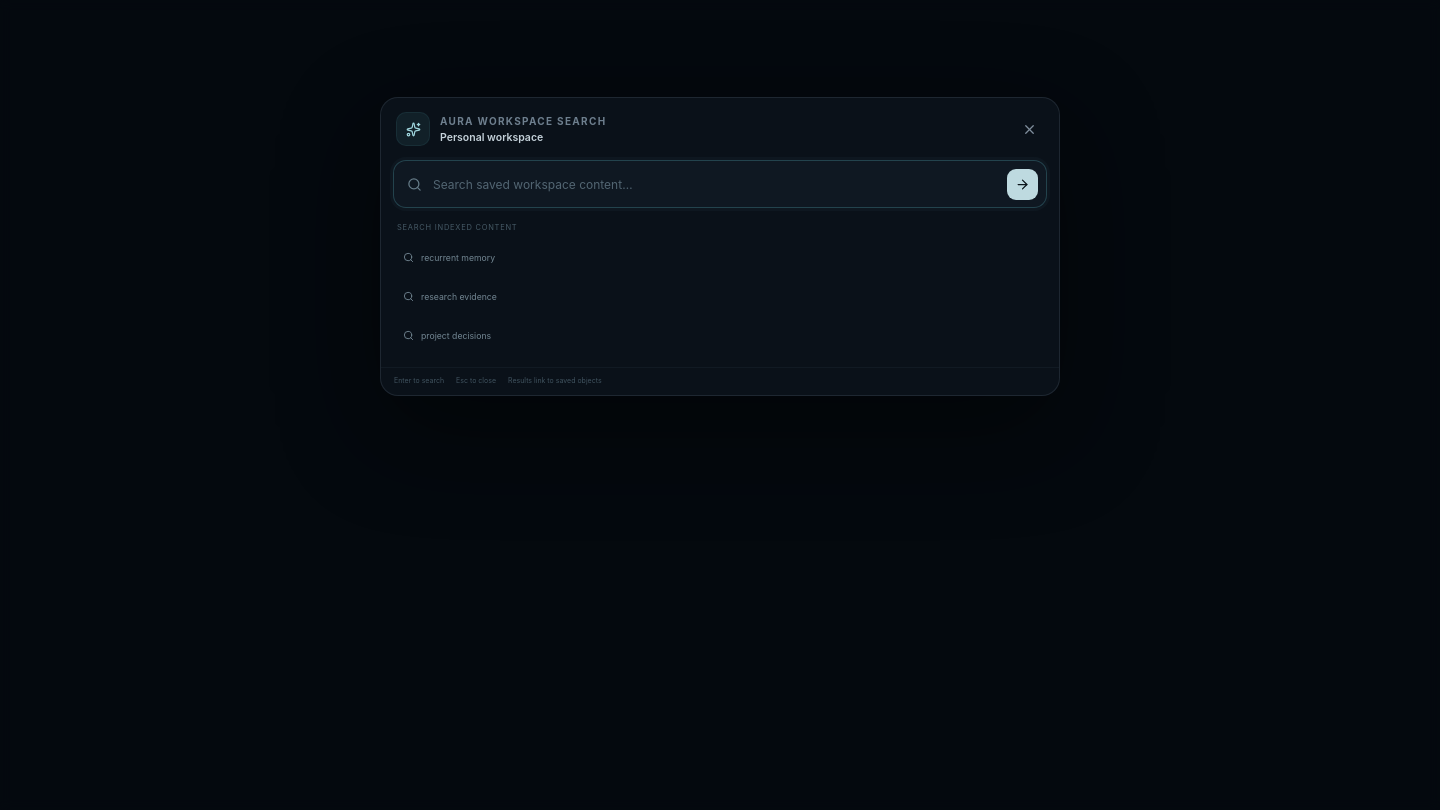
Test case: AuraCommandPalette › clears a stale load-more state when a new search supersedes that page request
Type "old query" into the field labelled "Search saved workspace content" at (714, 184), box [431,176,998,193]
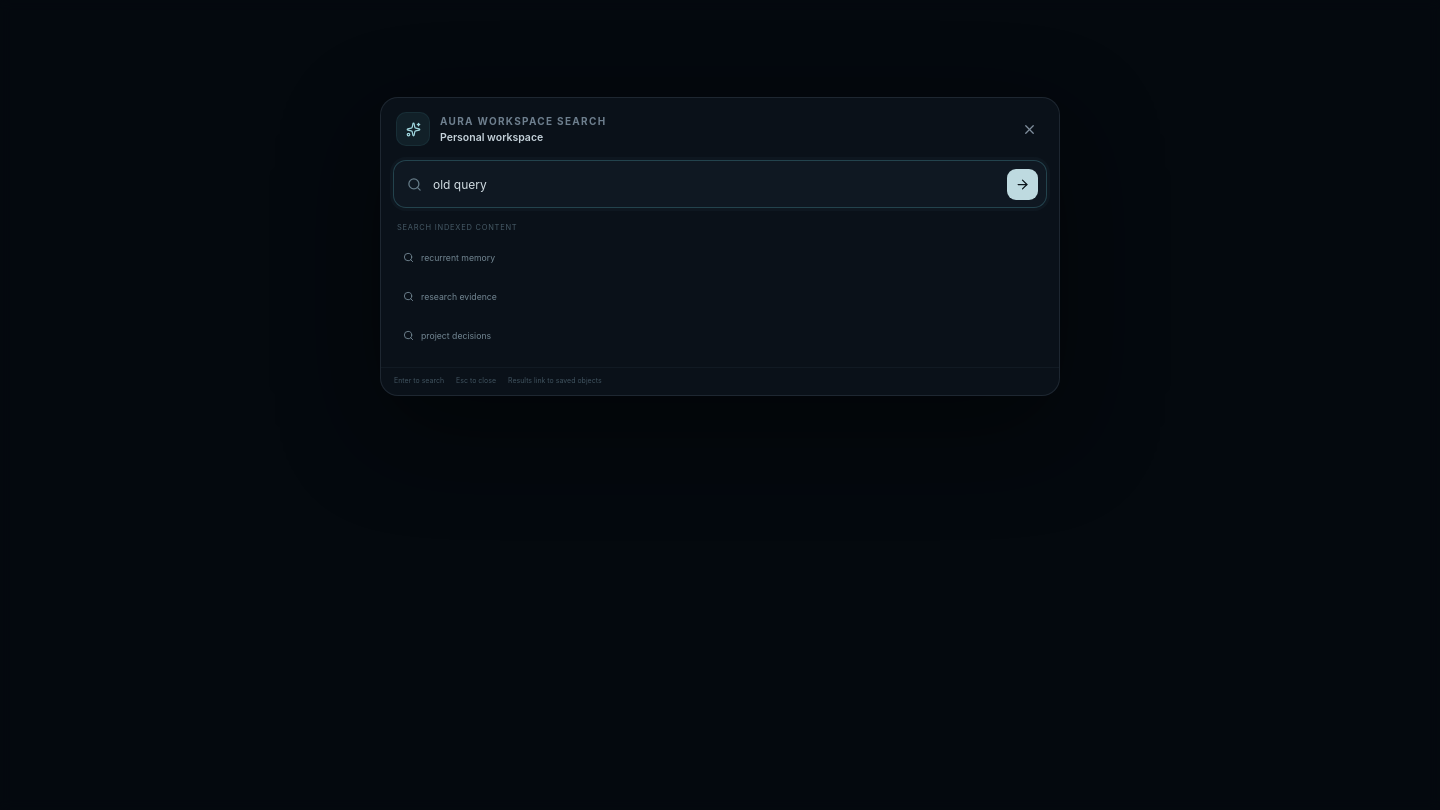
Click the button named "Search" at (1022, 184), box [1007,169,1038,200]
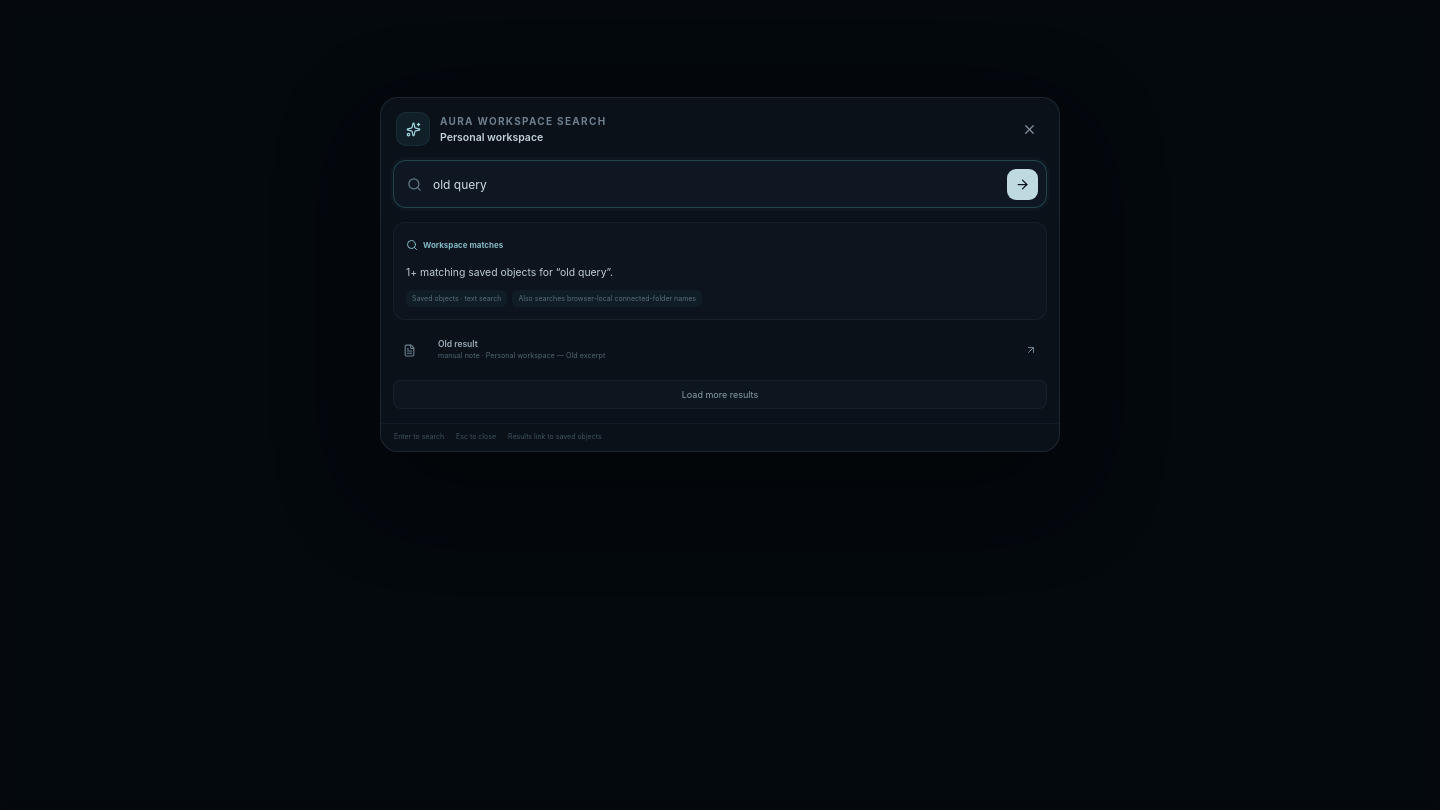
Check: the text "Old result" is shown, box [438,339,478,349]
Click the button "Load more results" at (720, 395), box [393,380,1047,409]
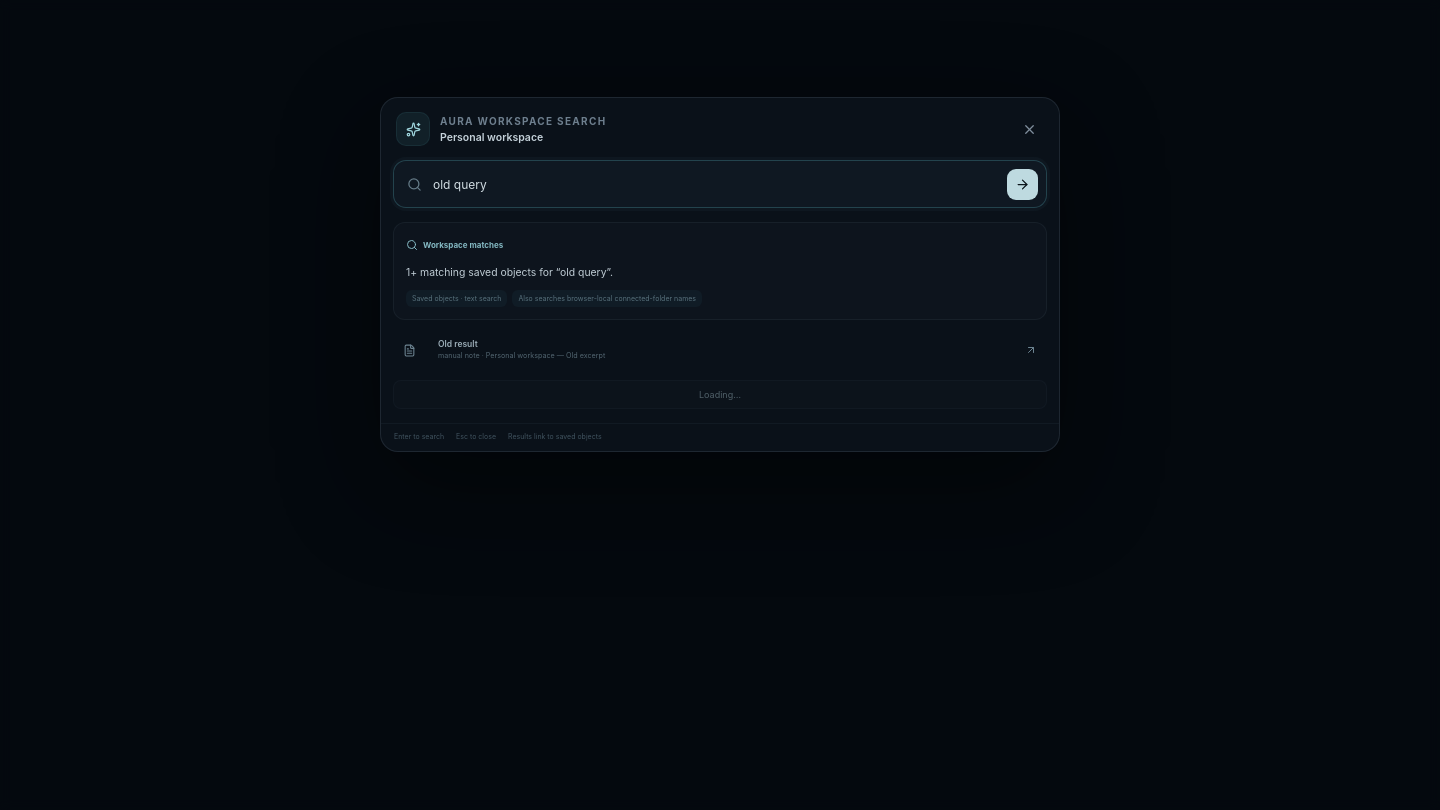
Replace the text in the field named "Search saved workspace content" with "new query" at (714, 184), box [431,176,998,193]
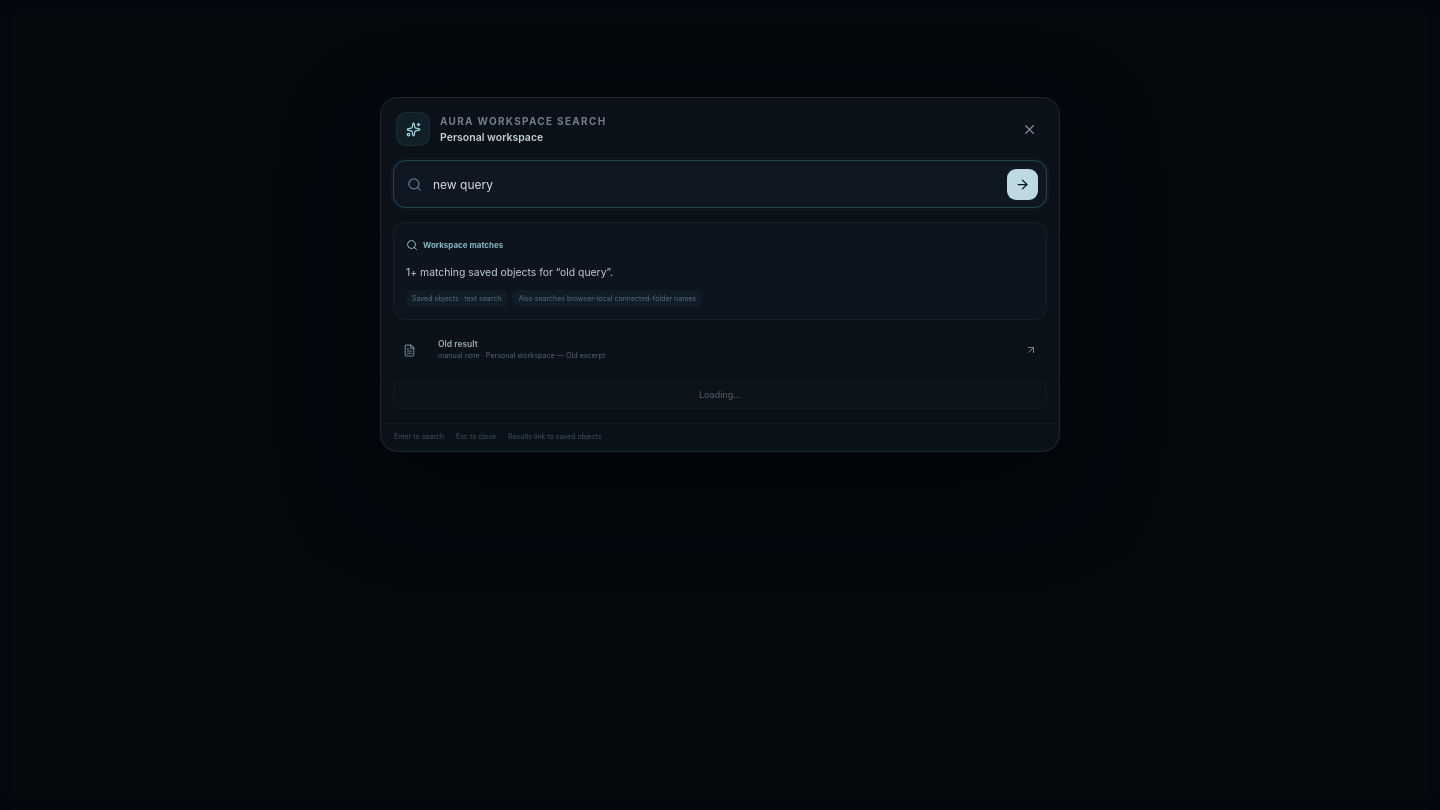
Click the button named "Search" at (1022, 184), box [1007,169,1038,200]
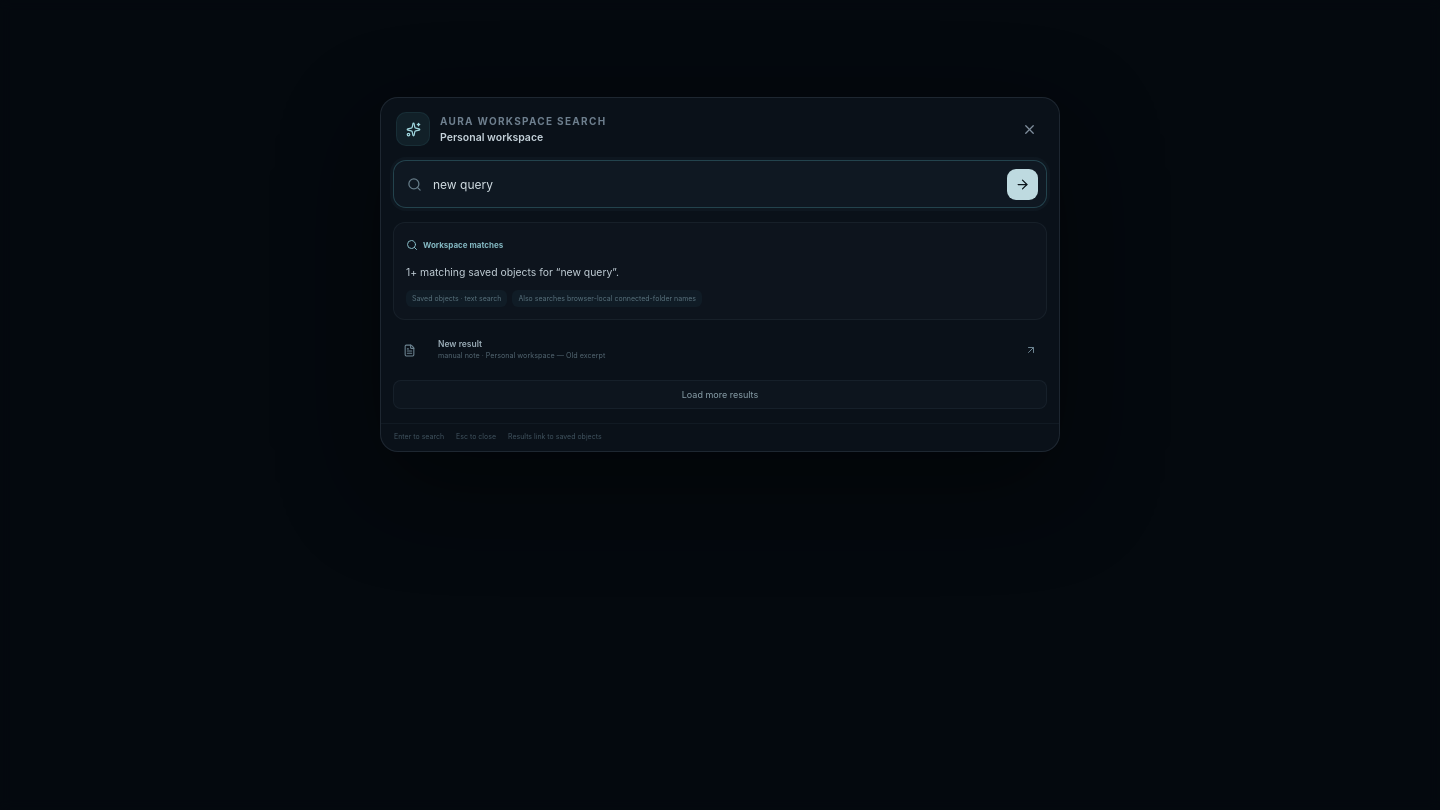
Check: the button "Load more results" is enabled, box [393,380,1047,409]
Check: the text "New result" is shown, box [438,339,482,349]
